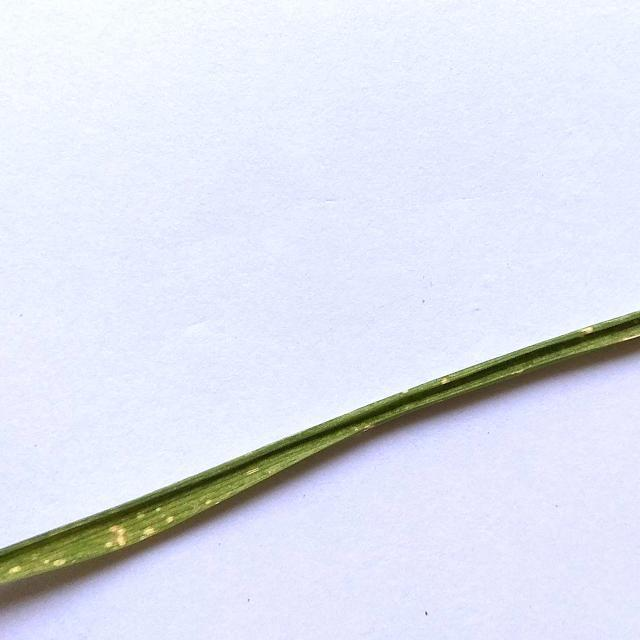Blast: (136, 510, 178, 534), (100, 524, 134, 549), (45, 554, 74, 570), (6, 558, 26, 576), (241, 462, 264, 476), (201, 492, 215, 509), (580, 327, 595, 337), (441, 376, 451, 386)
